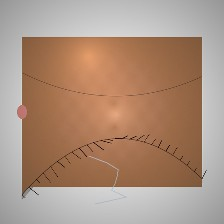foreign_body_visible: (101, 113, 119, 128)
